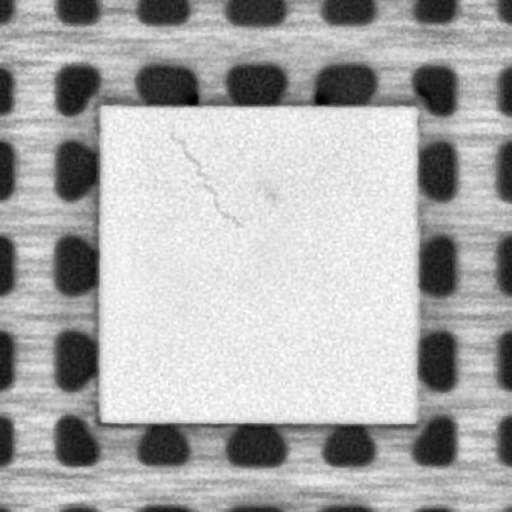DIE_CRACK: (168, 128, 240, 227)
